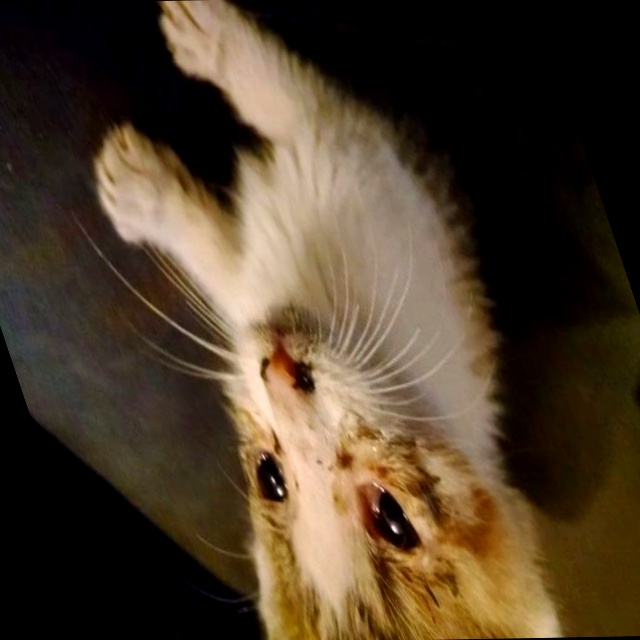eye_infection: (339, 479, 423, 548), (234, 447, 305, 501)
